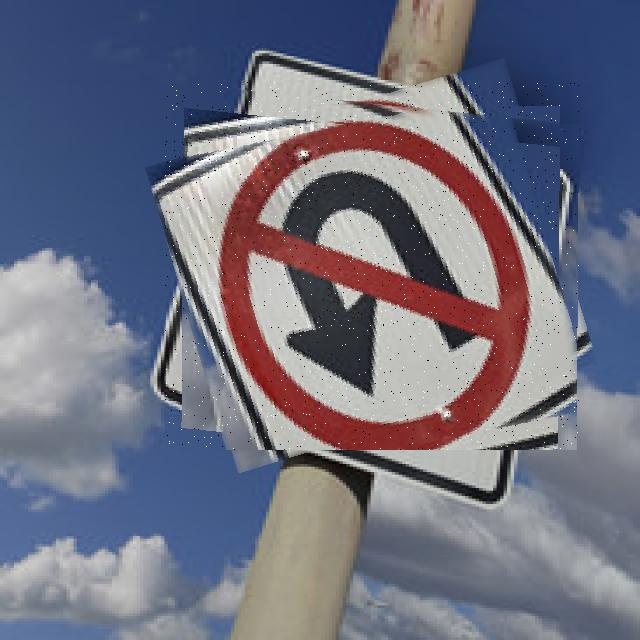no u turn: (165, 82, 579, 450)
